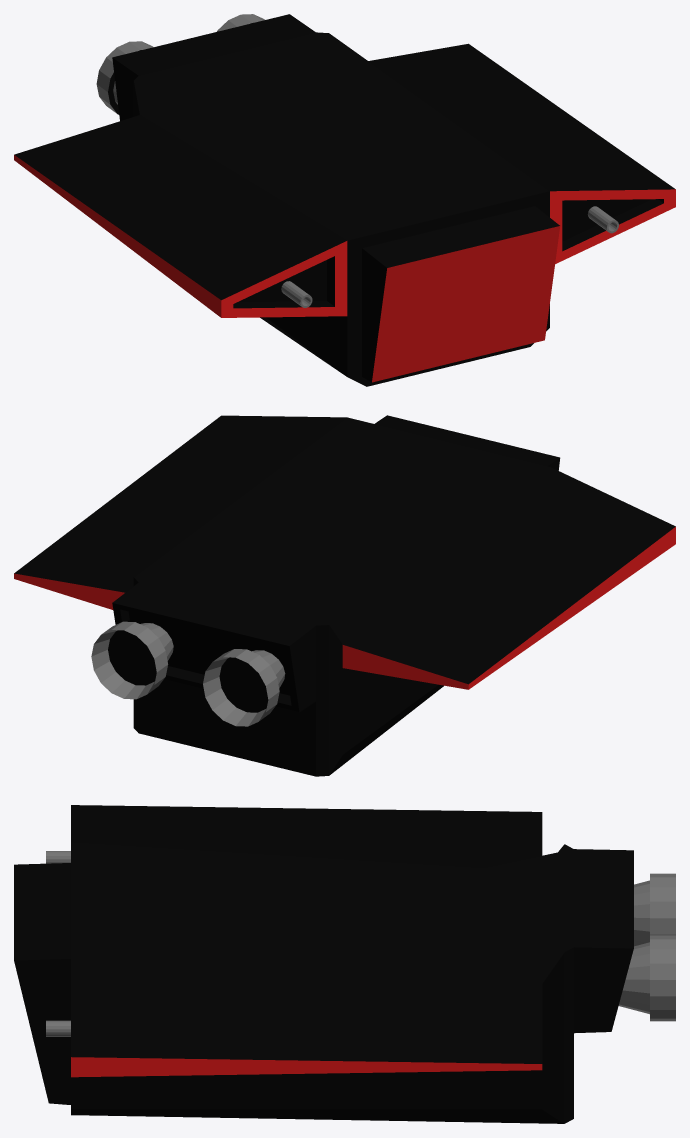
The model's file is heavy_ship_black.glb.
3 views of the same model, one above another, from view 1: azimuth 30°, elevation 25°; view 2: azimuth 150°, elevation 25°; view 3: azimuth 270°, elevation 25° (orthographic). The views are drawn at different scales.
Parts seen in each view (by area): view 1: troop carrier ship.001; view 2: troop carrier ship.001; view 3: troop carrier ship.001.
Boxes of the visible parts, <box> form: troop carrier ship.001: <box>14,14,675,386</box>; troop carrier ship.001: <box>14,415,675,776</box>; troop carrier ship.001: <box>14,805,675,1123</box>.
Bounding box in the file's own units: 9.46 × 3 × 10.5.
